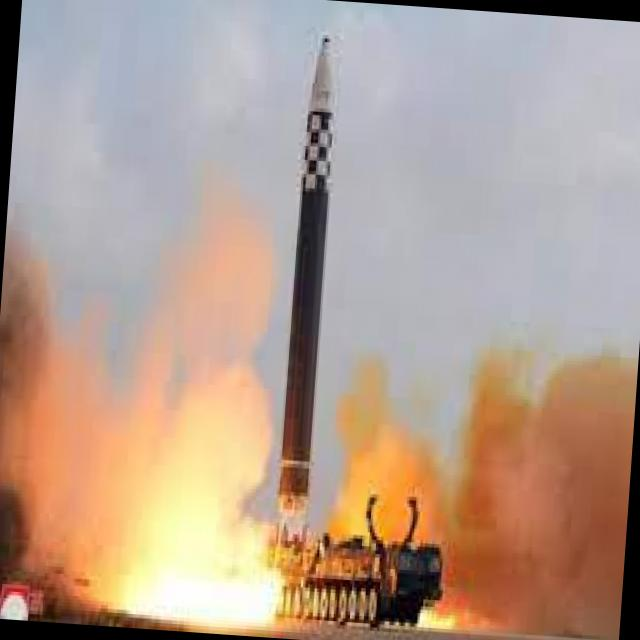rocket: (264, 35, 351, 590)
